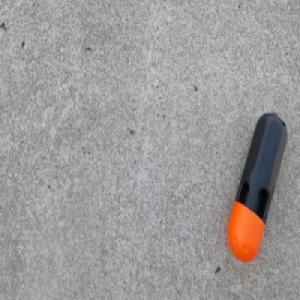PlasticPart: (226, 111, 288, 264)
